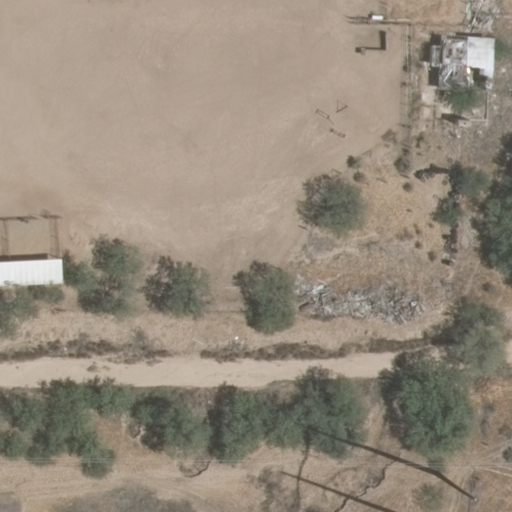DT: (420, 454, 485, 512)
